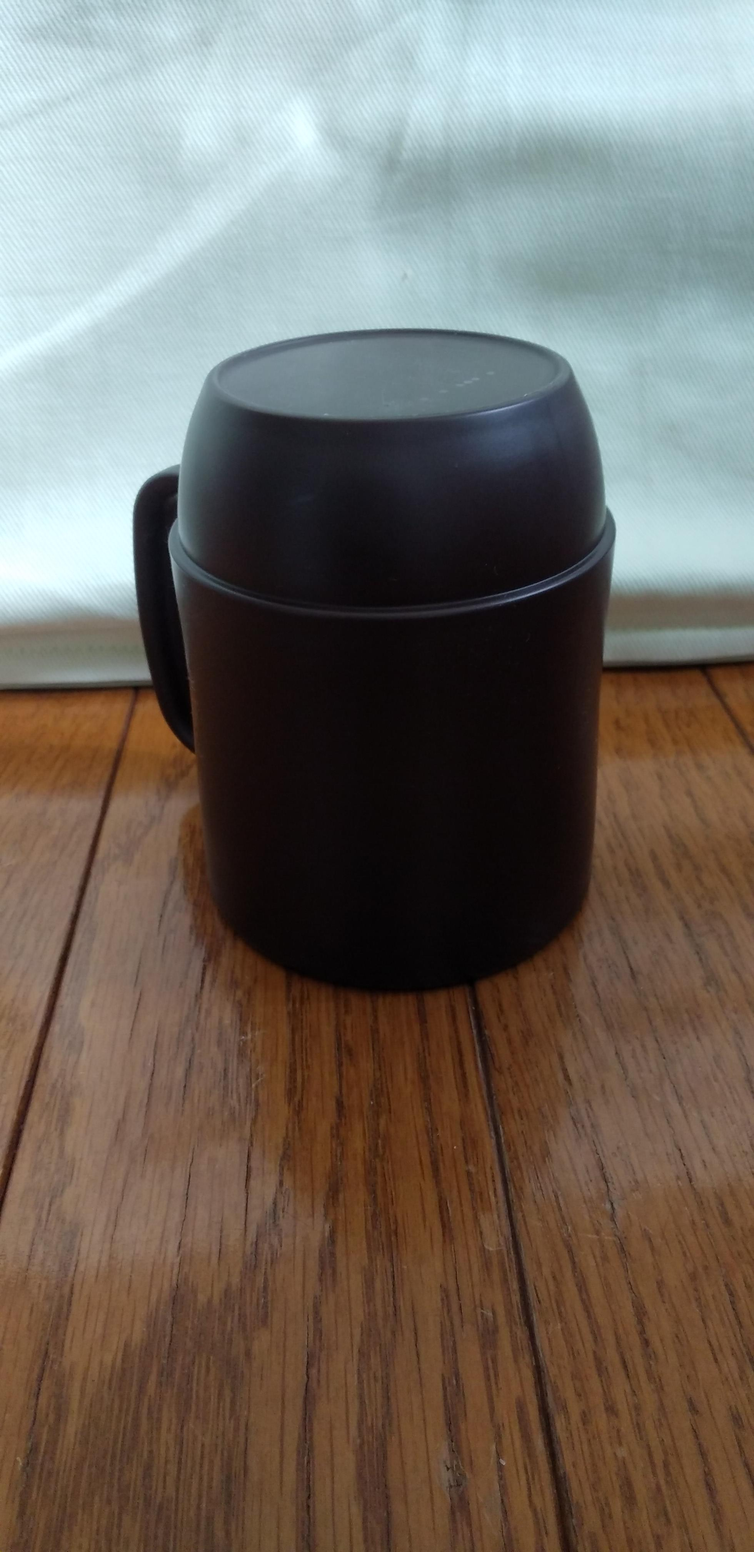mug-real100-3d100: (134, 329, 615, 991)
